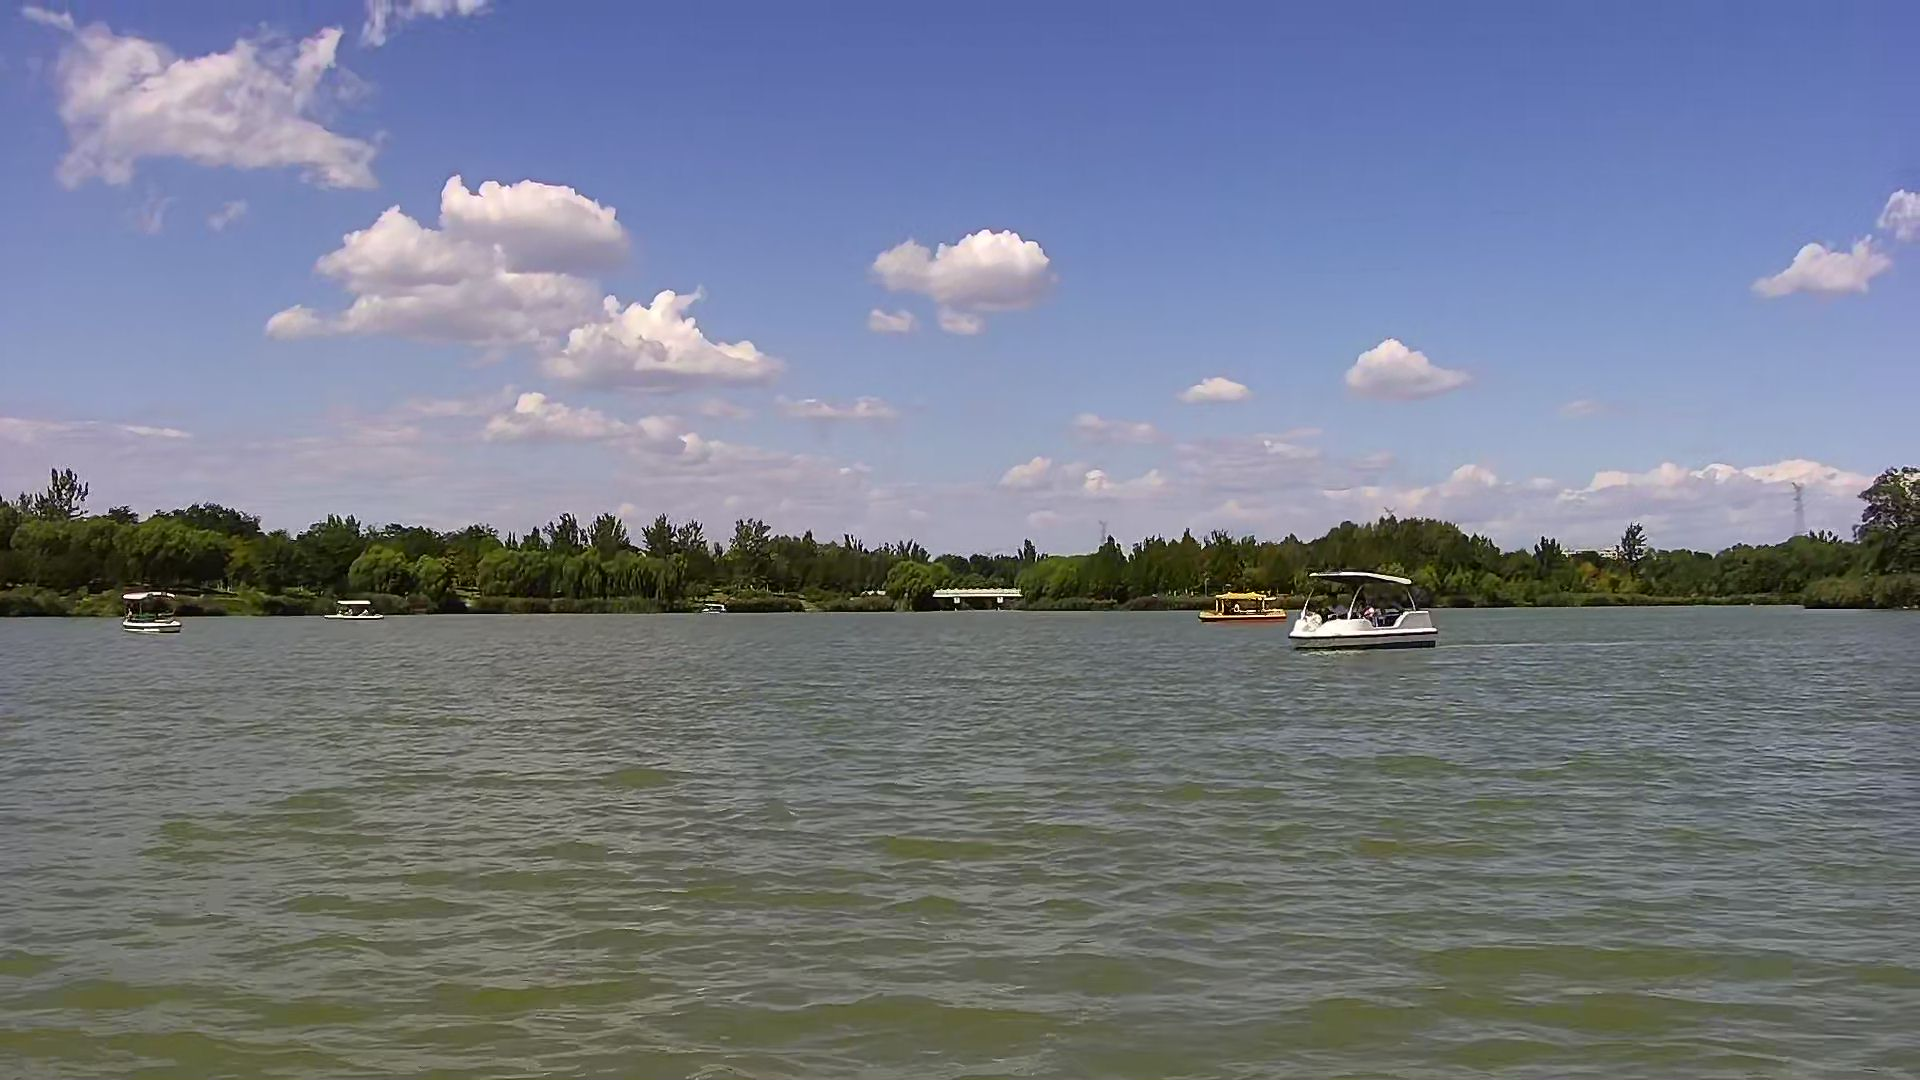boat: (1298, 568, 1443, 654), (117, 591, 179, 637), (1201, 591, 1280, 618), (328, 595, 381, 624)
bridge: (942, 585, 1019, 611)
